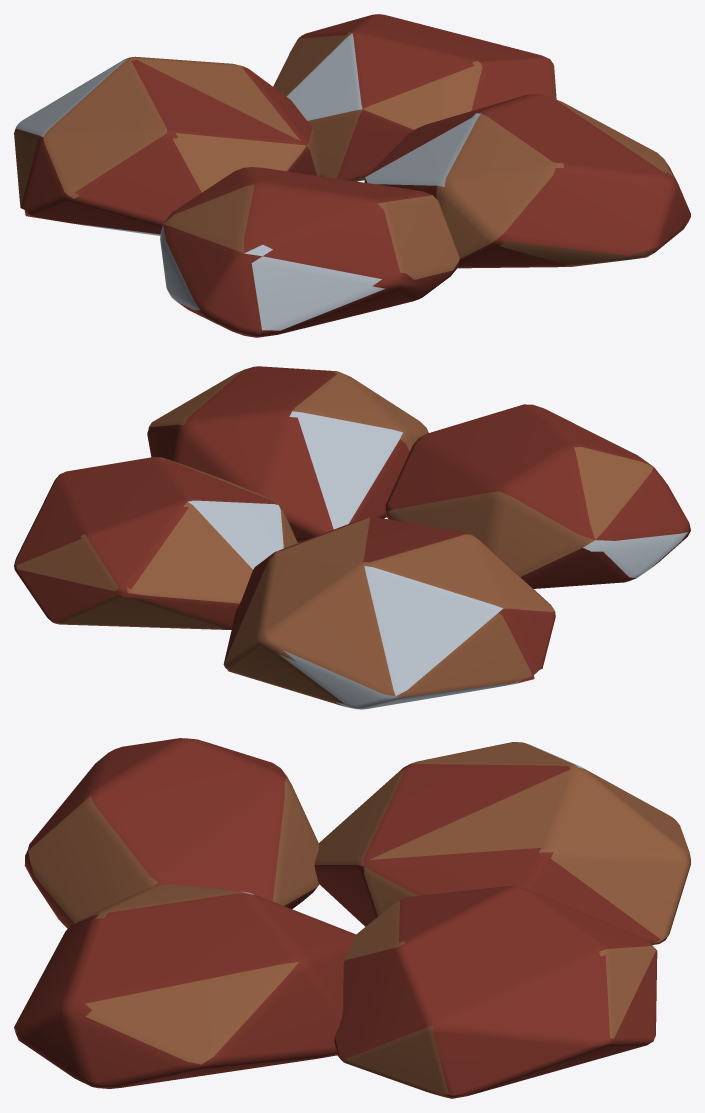
File: minerai_fer_1.glb
The picture shows the model from 3 angles, top to bottom: view 1: azimuth 30°, elevation 25°; view 2: azimuth 150°, elevation 25°; view 3: azimuth 270°, elevation 25°; orthographic projection. The views are drawn at different scales.
Parts seen in each view (by area): view 1: minerai_hematite.004, minerai_rouille.004, minerai_fer_metal.004; view 2: minerai_hematite.004, minerai_rouille.004, minerai_fer_metal.004; view 3: minerai_hematite.004, minerai_rouille.004.
Boxes of the visible parts, bbox=[...] form: minerai_hematite.004: bbox=[20, 14, 690, 337]; minerai_rouille.004: bbox=[14, 32, 673, 279]; minerai_fer_metal.004: bbox=[16, 33, 480, 330]; minerai_hematite.004: bbox=[14, 366, 690, 683]; minerai_rouille.004: bbox=[16, 370, 653, 706]; minerai_fer_metal.004: bbox=[188, 411, 687, 709]; minerai_hematite.004: bbox=[14, 738, 663, 1097]; minerai_rouille.004: bbox=[14, 738, 690, 1098].
Bounding box in the file's own units: 0.5403 × 0.1089 × 0.5267.
